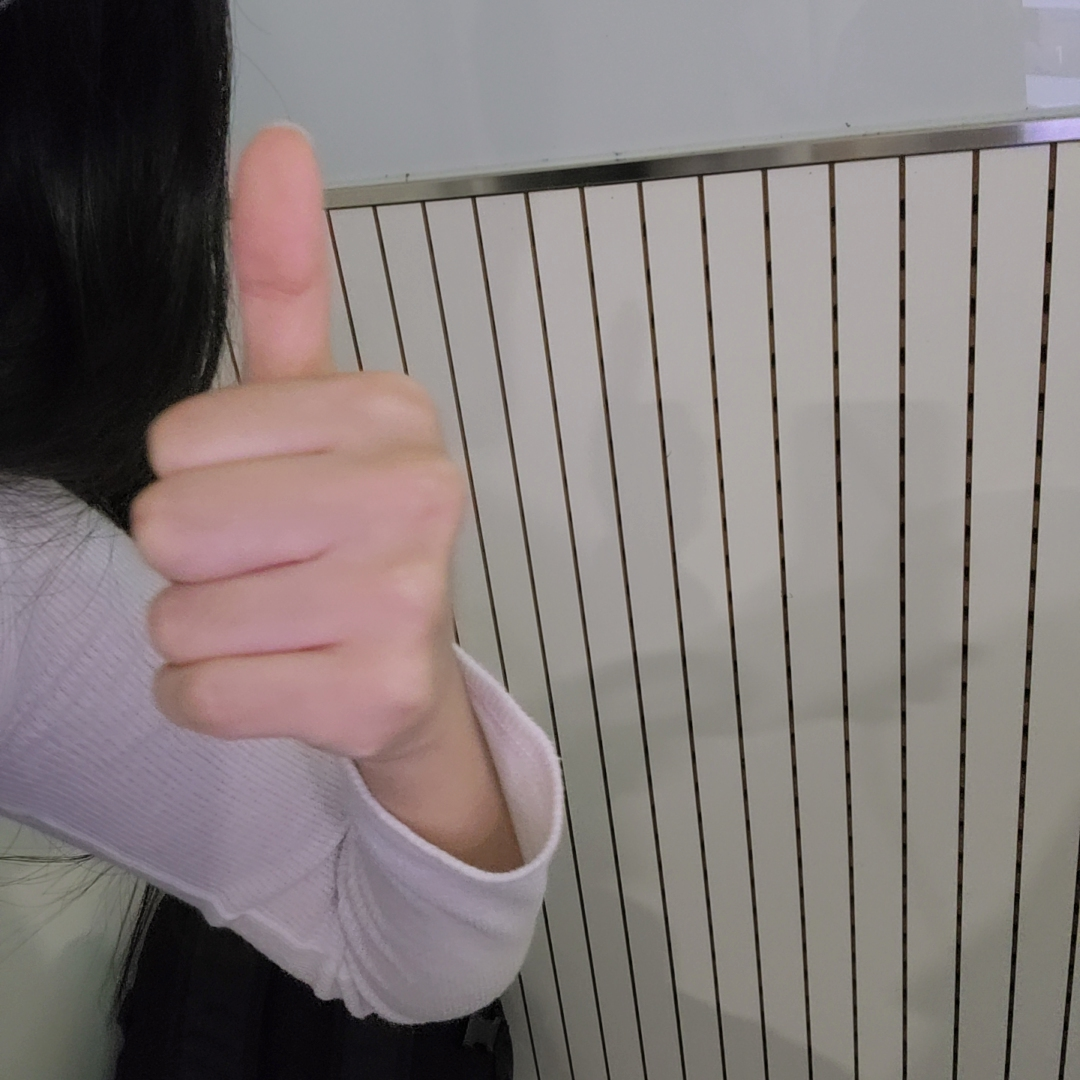best: (130, 125, 463, 763)
